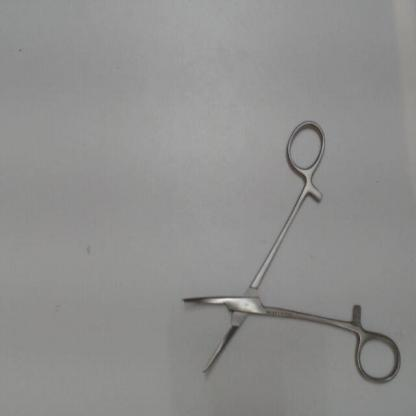Crile Artery Forceps: (170, 111, 405, 389)
